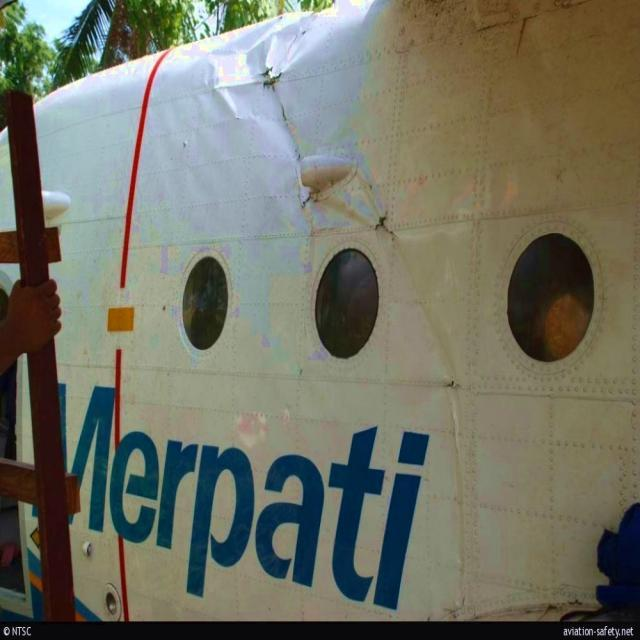crack: (260, 61, 291, 130), (371, 209, 399, 244)
dent: (210, 10, 340, 129)
